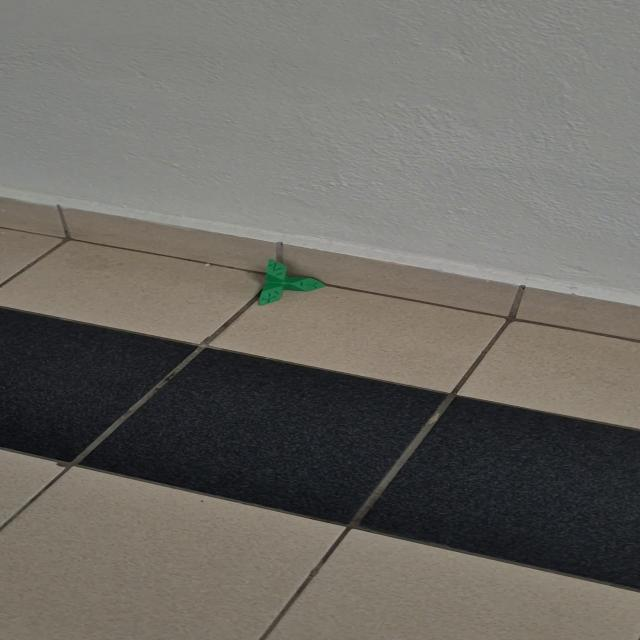objects: (257, 257, 327, 307)
